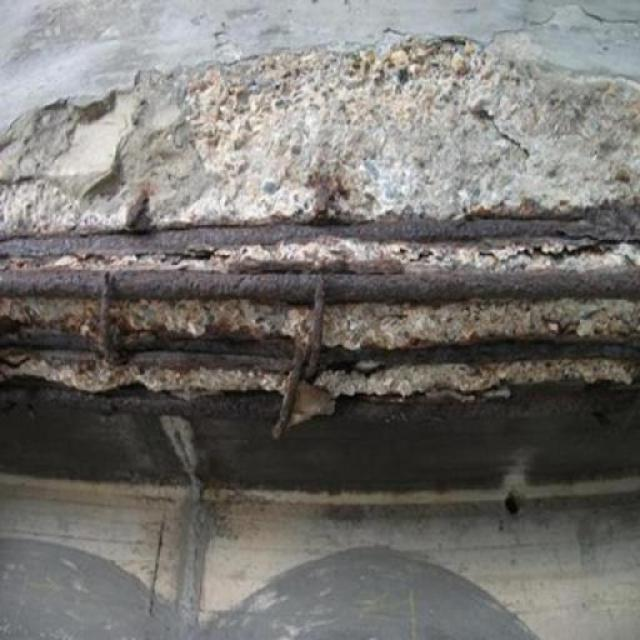D0w0: (1, 41, 639, 441)
